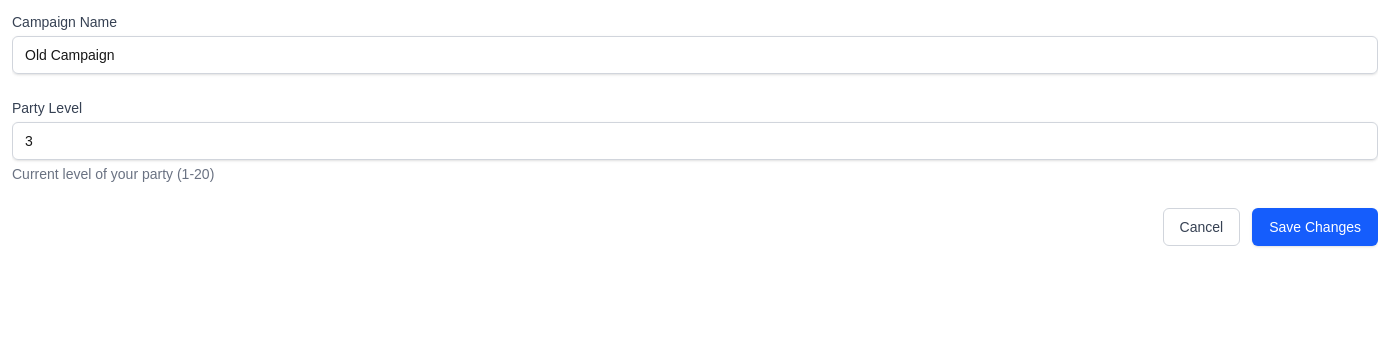
Test: CampaignForm error handling › shows server error when PATCH returns non-ok and does not navigate
Note: Submit form
Click the button "Save Changes".
click(1315, 227)  # box [1252, 208, 1378, 246]
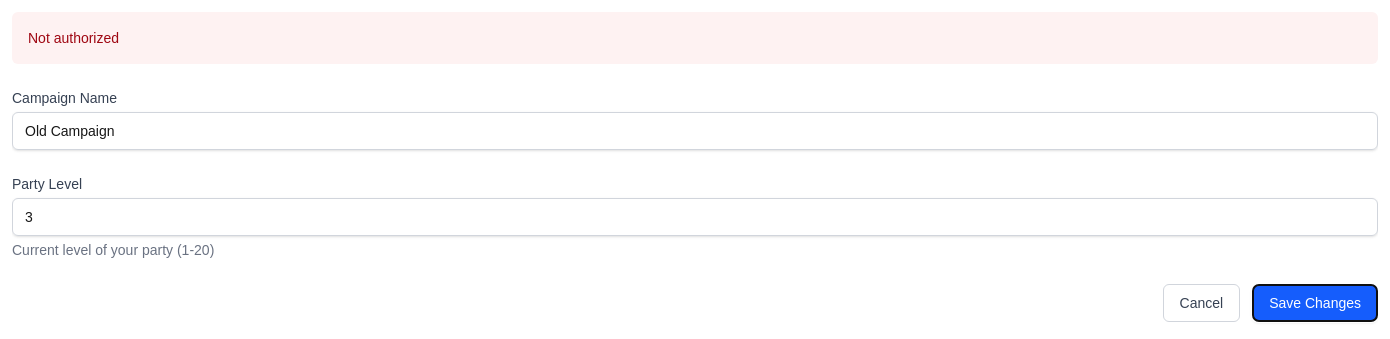
Result: the text "Not authorized" is shown at [28, 30, 119, 46]
